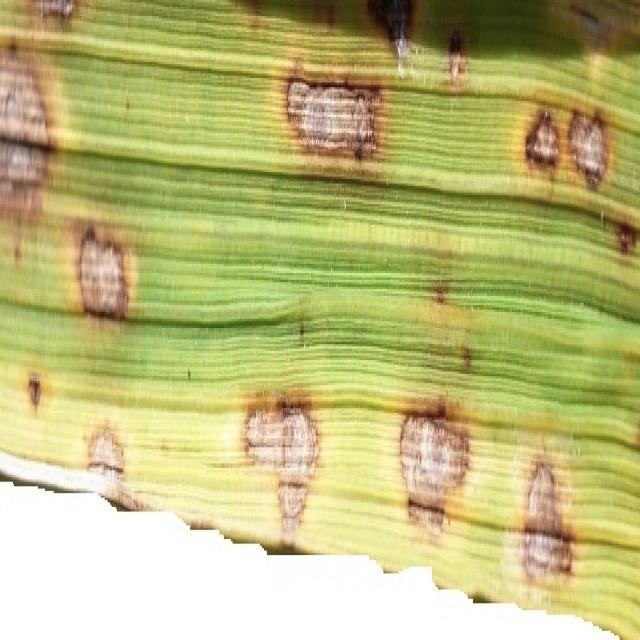Brownspot: (245, 402, 317, 543), (400, 410, 468, 534), (0, 51, 49, 213), (286, 78, 381, 159), (521, 463, 572, 580), (78, 228, 127, 318), (568, 112, 608, 187), (367, 0, 414, 58), (569, 1, 611, 51), (525, 110, 558, 169), (88, 428, 123, 480), (447, 29, 465, 89), (618, 223, 635, 255), (28, 372, 42, 410), (434, 282, 445, 304), (462, 346, 471, 371), (299, 321, 305, 345)
